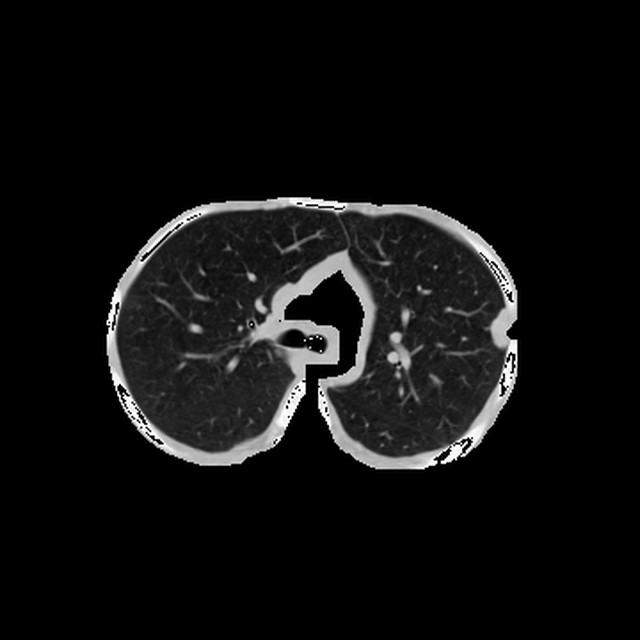PN: (485, 315, 514, 343)
